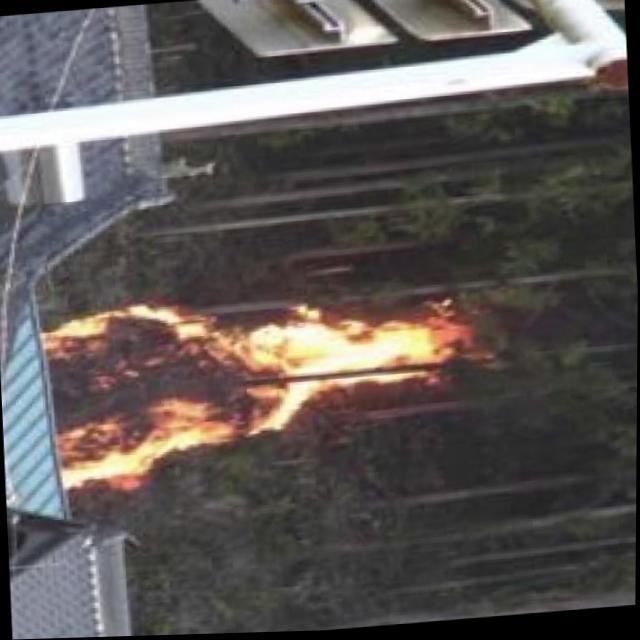Fire: (42, 274, 470, 493)
